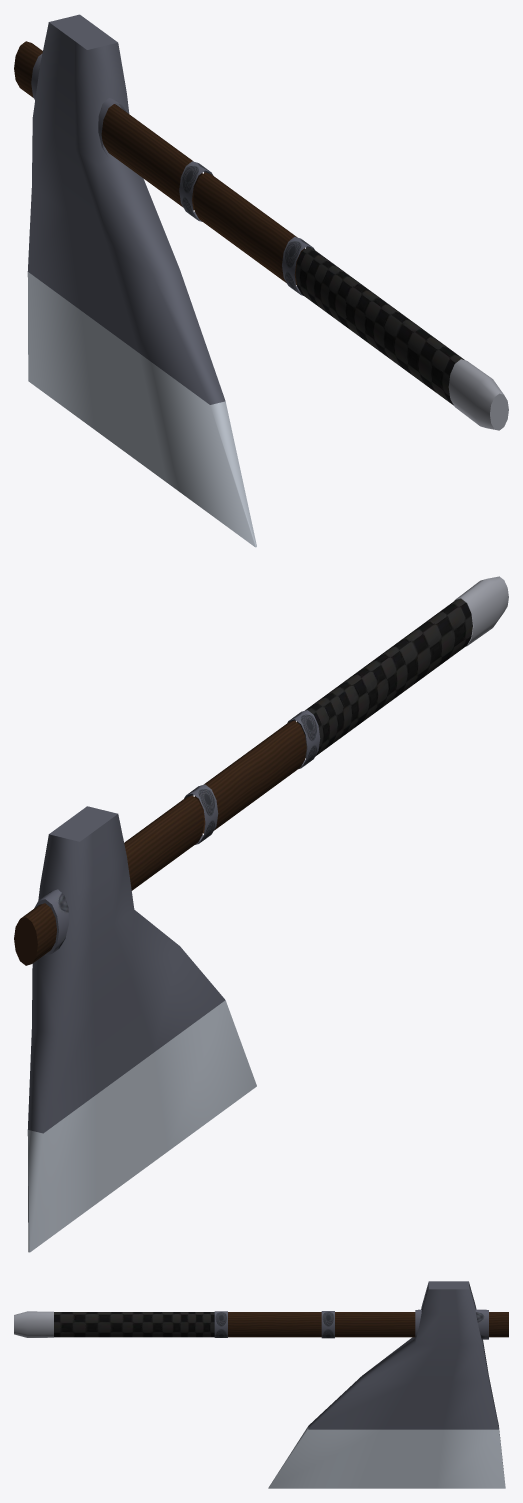
File: ono.glb
3 views of the same model, one above another, from view 1: azimuth 30°, elevation 25°; view 2: azimuth 150°, elevation 25°; view 3: azimuth 270°, elevation 25° (orthographic). The views are drawn at different scales.
Visible parts, largest first — view 1: main; view 2: main; view 3: main.
Part boxes in pixels (x1=…): main: x1=14, y1=14, x2=508, y2=547; main: x1=14, y1=576, x2=508, y2=1252; main: x1=14, y1=1281, x2=508, y2=1488.
Size of the model in its own units: 0.034 by 0.335 by 0.74.
Materials: 5 (4 with a texture image).
